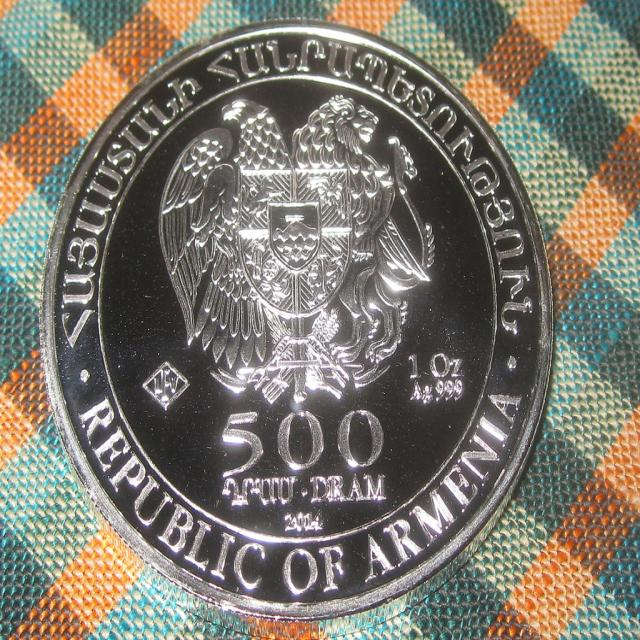Coin: (41, 17, 556, 621)
